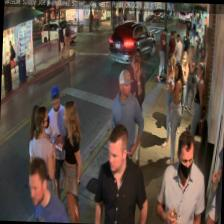person: (93, 123, 150, 224), (154, 129, 205, 224), (107, 68, 146, 190), (41, 84, 72, 218), (28, 104, 57, 222), (119, 53, 146, 177), (58, 100, 83, 222), (27, 156, 70, 222), (183, 60, 204, 154), (164, 61, 182, 164), (172, 50, 190, 133), (160, 54, 176, 146)
